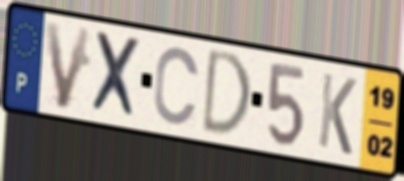5: (263, 60, 310, 150)
C: (151, 44, 202, 129)
D: (199, 46, 254, 138)
K: (315, 69, 359, 159)
V: (42, 19, 95, 113)
X: (88, 28, 143, 124)
